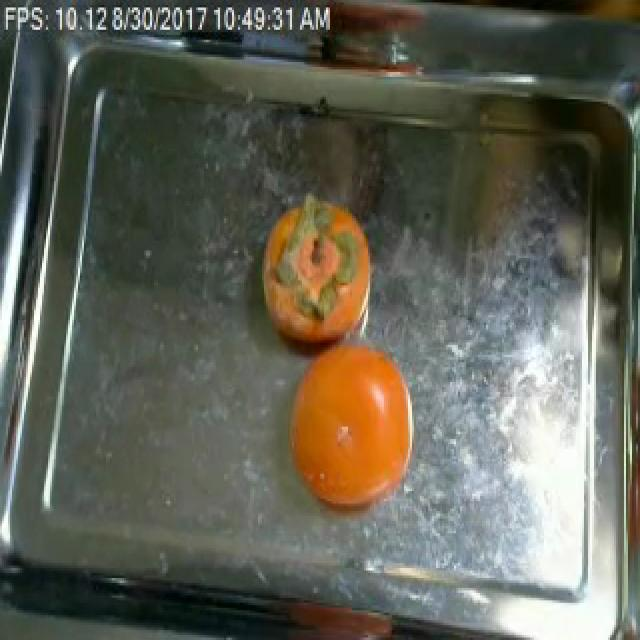Fruit: (270, 320, 418, 538), (248, 189, 380, 357)
